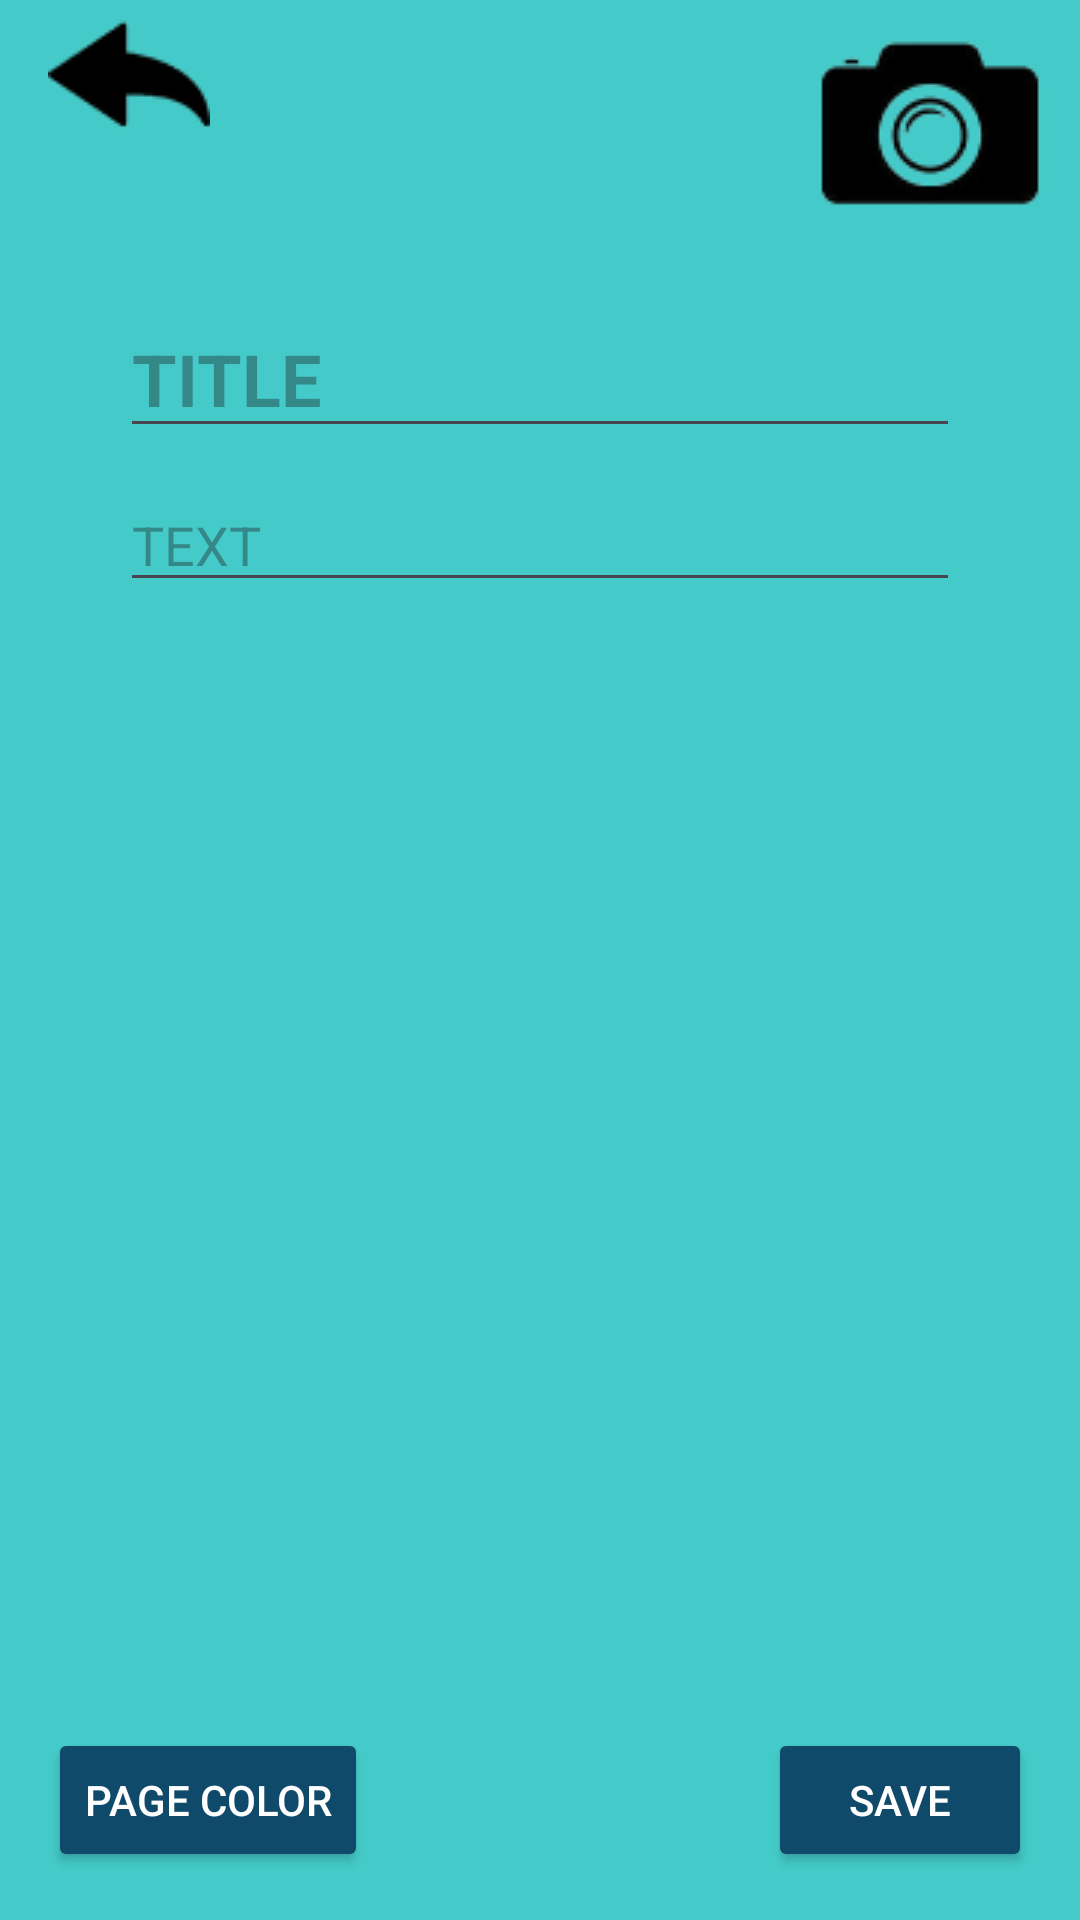

Screen size 1080x1920. Icon name, then its center in pixels as [x,y]:
Back Button: [129,74]
Camera Icon: [930,123]
